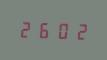six: (35, 19, 51, 39)
two: (18, 18, 34, 39), (69, 20, 85, 41)
zero: (52, 19, 68, 40)
